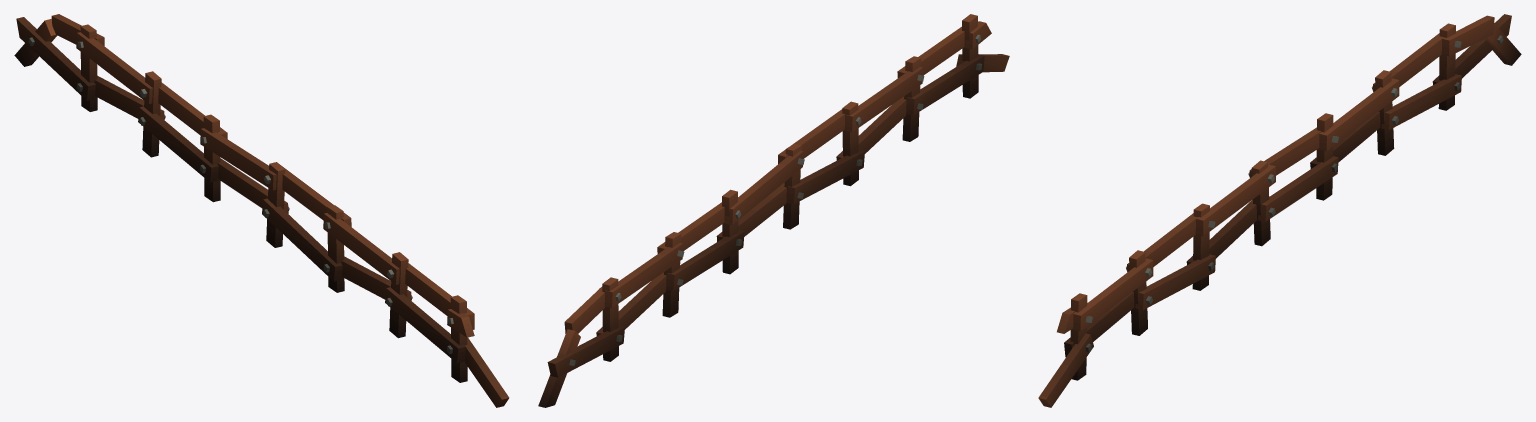
The model's file is FenceWithCaps.glb.
The picture shows the model from 3 angles, left to right: view 1: azimuth 30°, elevation 25°; view 2: azimuth 150°, elevation 25°; view 3: azimuth 330°, elevation 25°; orthographic projection. The views are drawn at different scales.
Parts seen in each view (by area): view 1: FenceWithCaps.col; view 2: FenceWithCaps.col; view 3: FenceWithCaps.col.
Part boxes in pixels (left/top/right/bottom): FenceWithCaps.col: left=14, top=14, right=509, bottom=407; FenceWithCaps.col: left=538, top=14, right=1009, bottom=407; FenceWithCaps.col: left=1038, top=14, right=1521, bottom=407.
Bounding box in the file's own units: 0.3603 × 1.25 × 13.25.
Materials: 1 (1 with a texture image).
